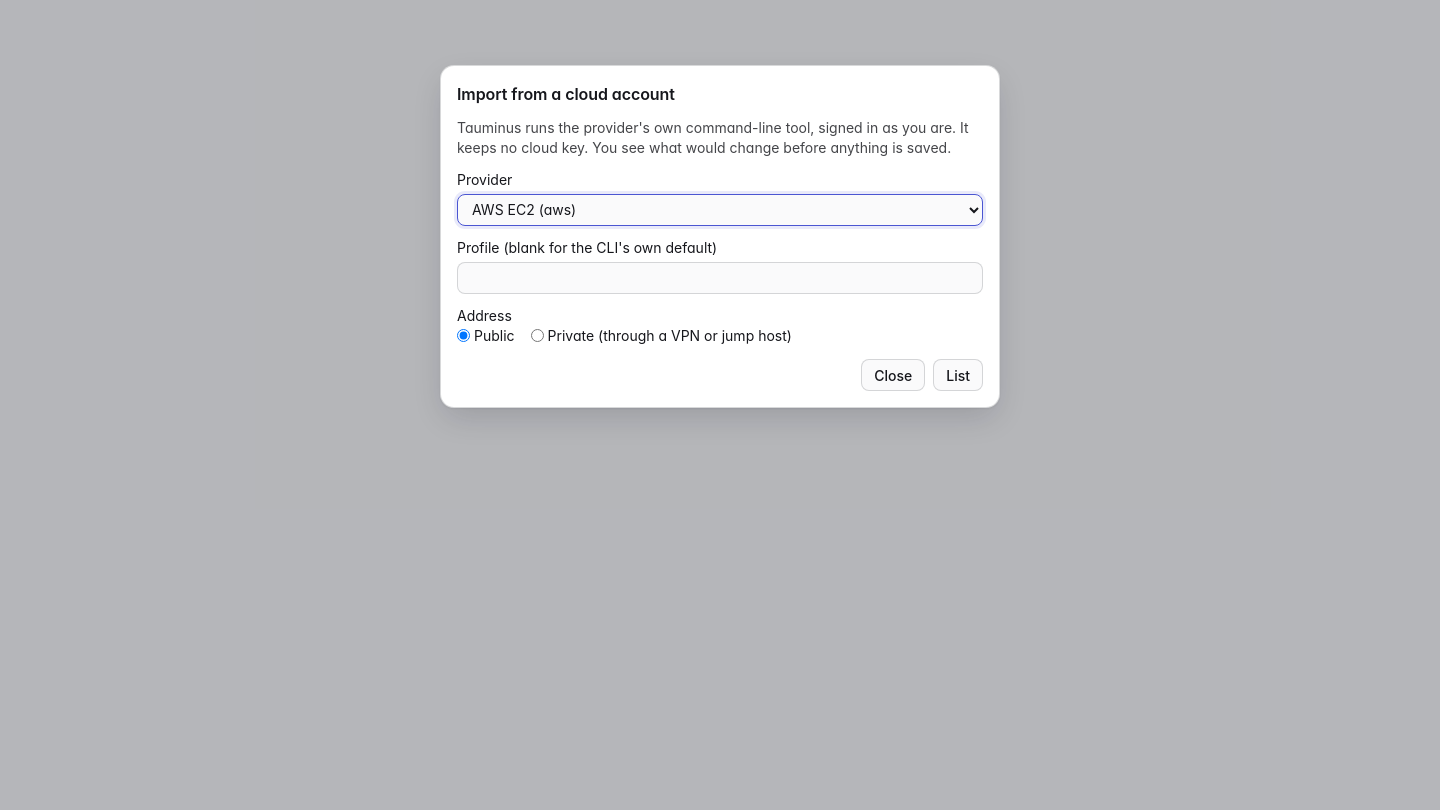
Test case: CloudImportDialog › says what the CLI said when it fails
This screenshot has width=1440, height=810.
In the field: (720, 278) [457,262,983,294], type "broken"
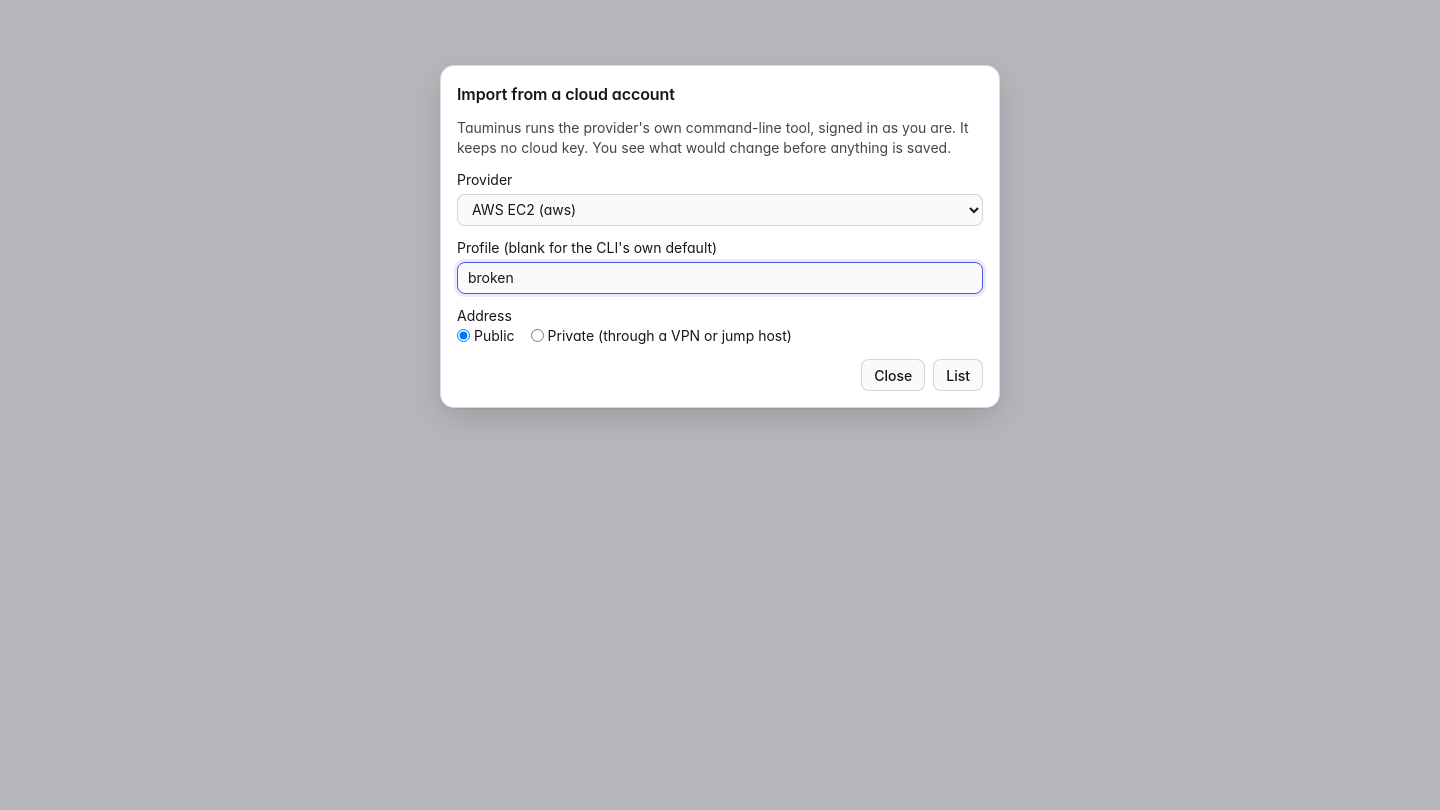
Click the button "List": (958, 375) [933,359,983,391]
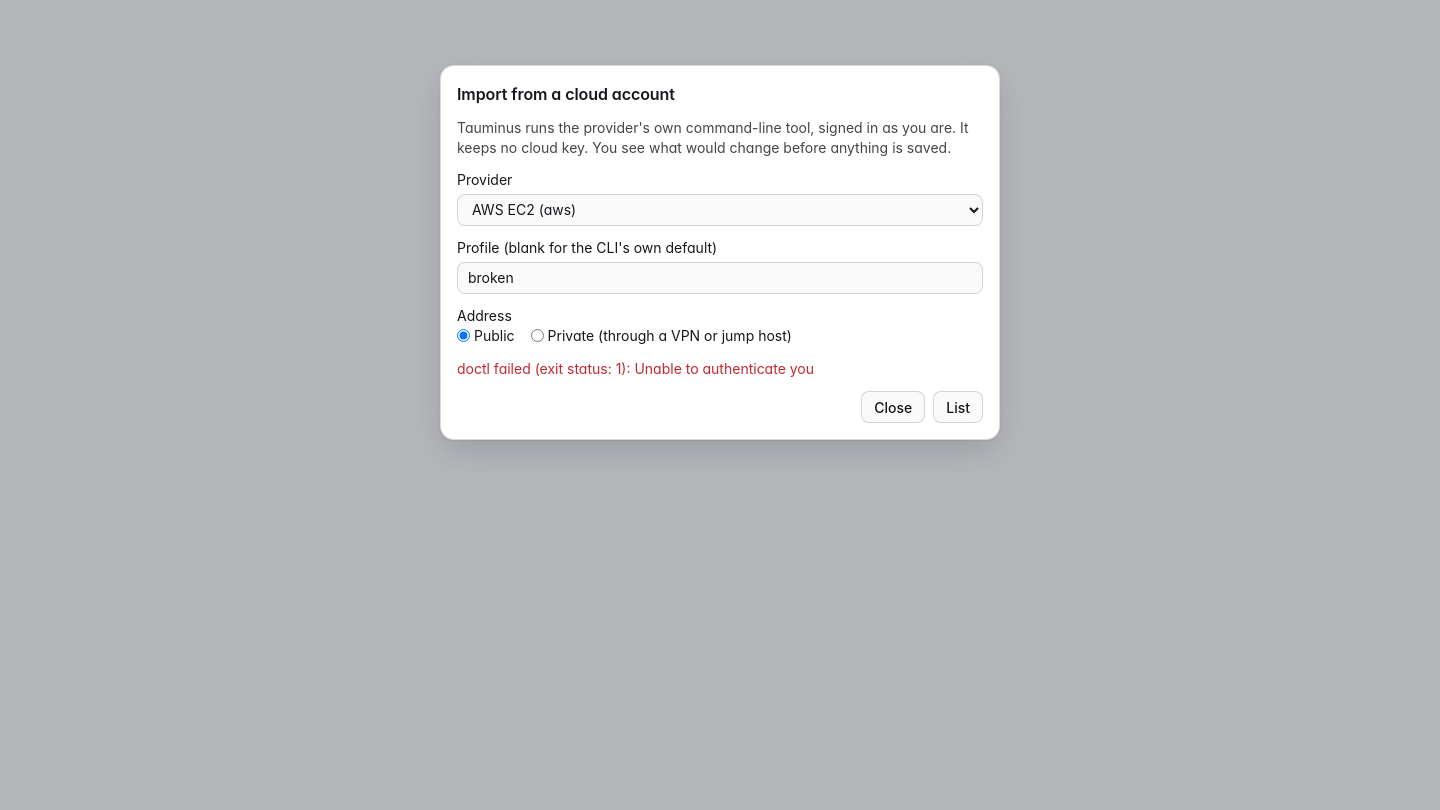
Expected: the text "doctl failed (exit status: 1): Unable to authenticate you" is shown, [457,360,814,377]
